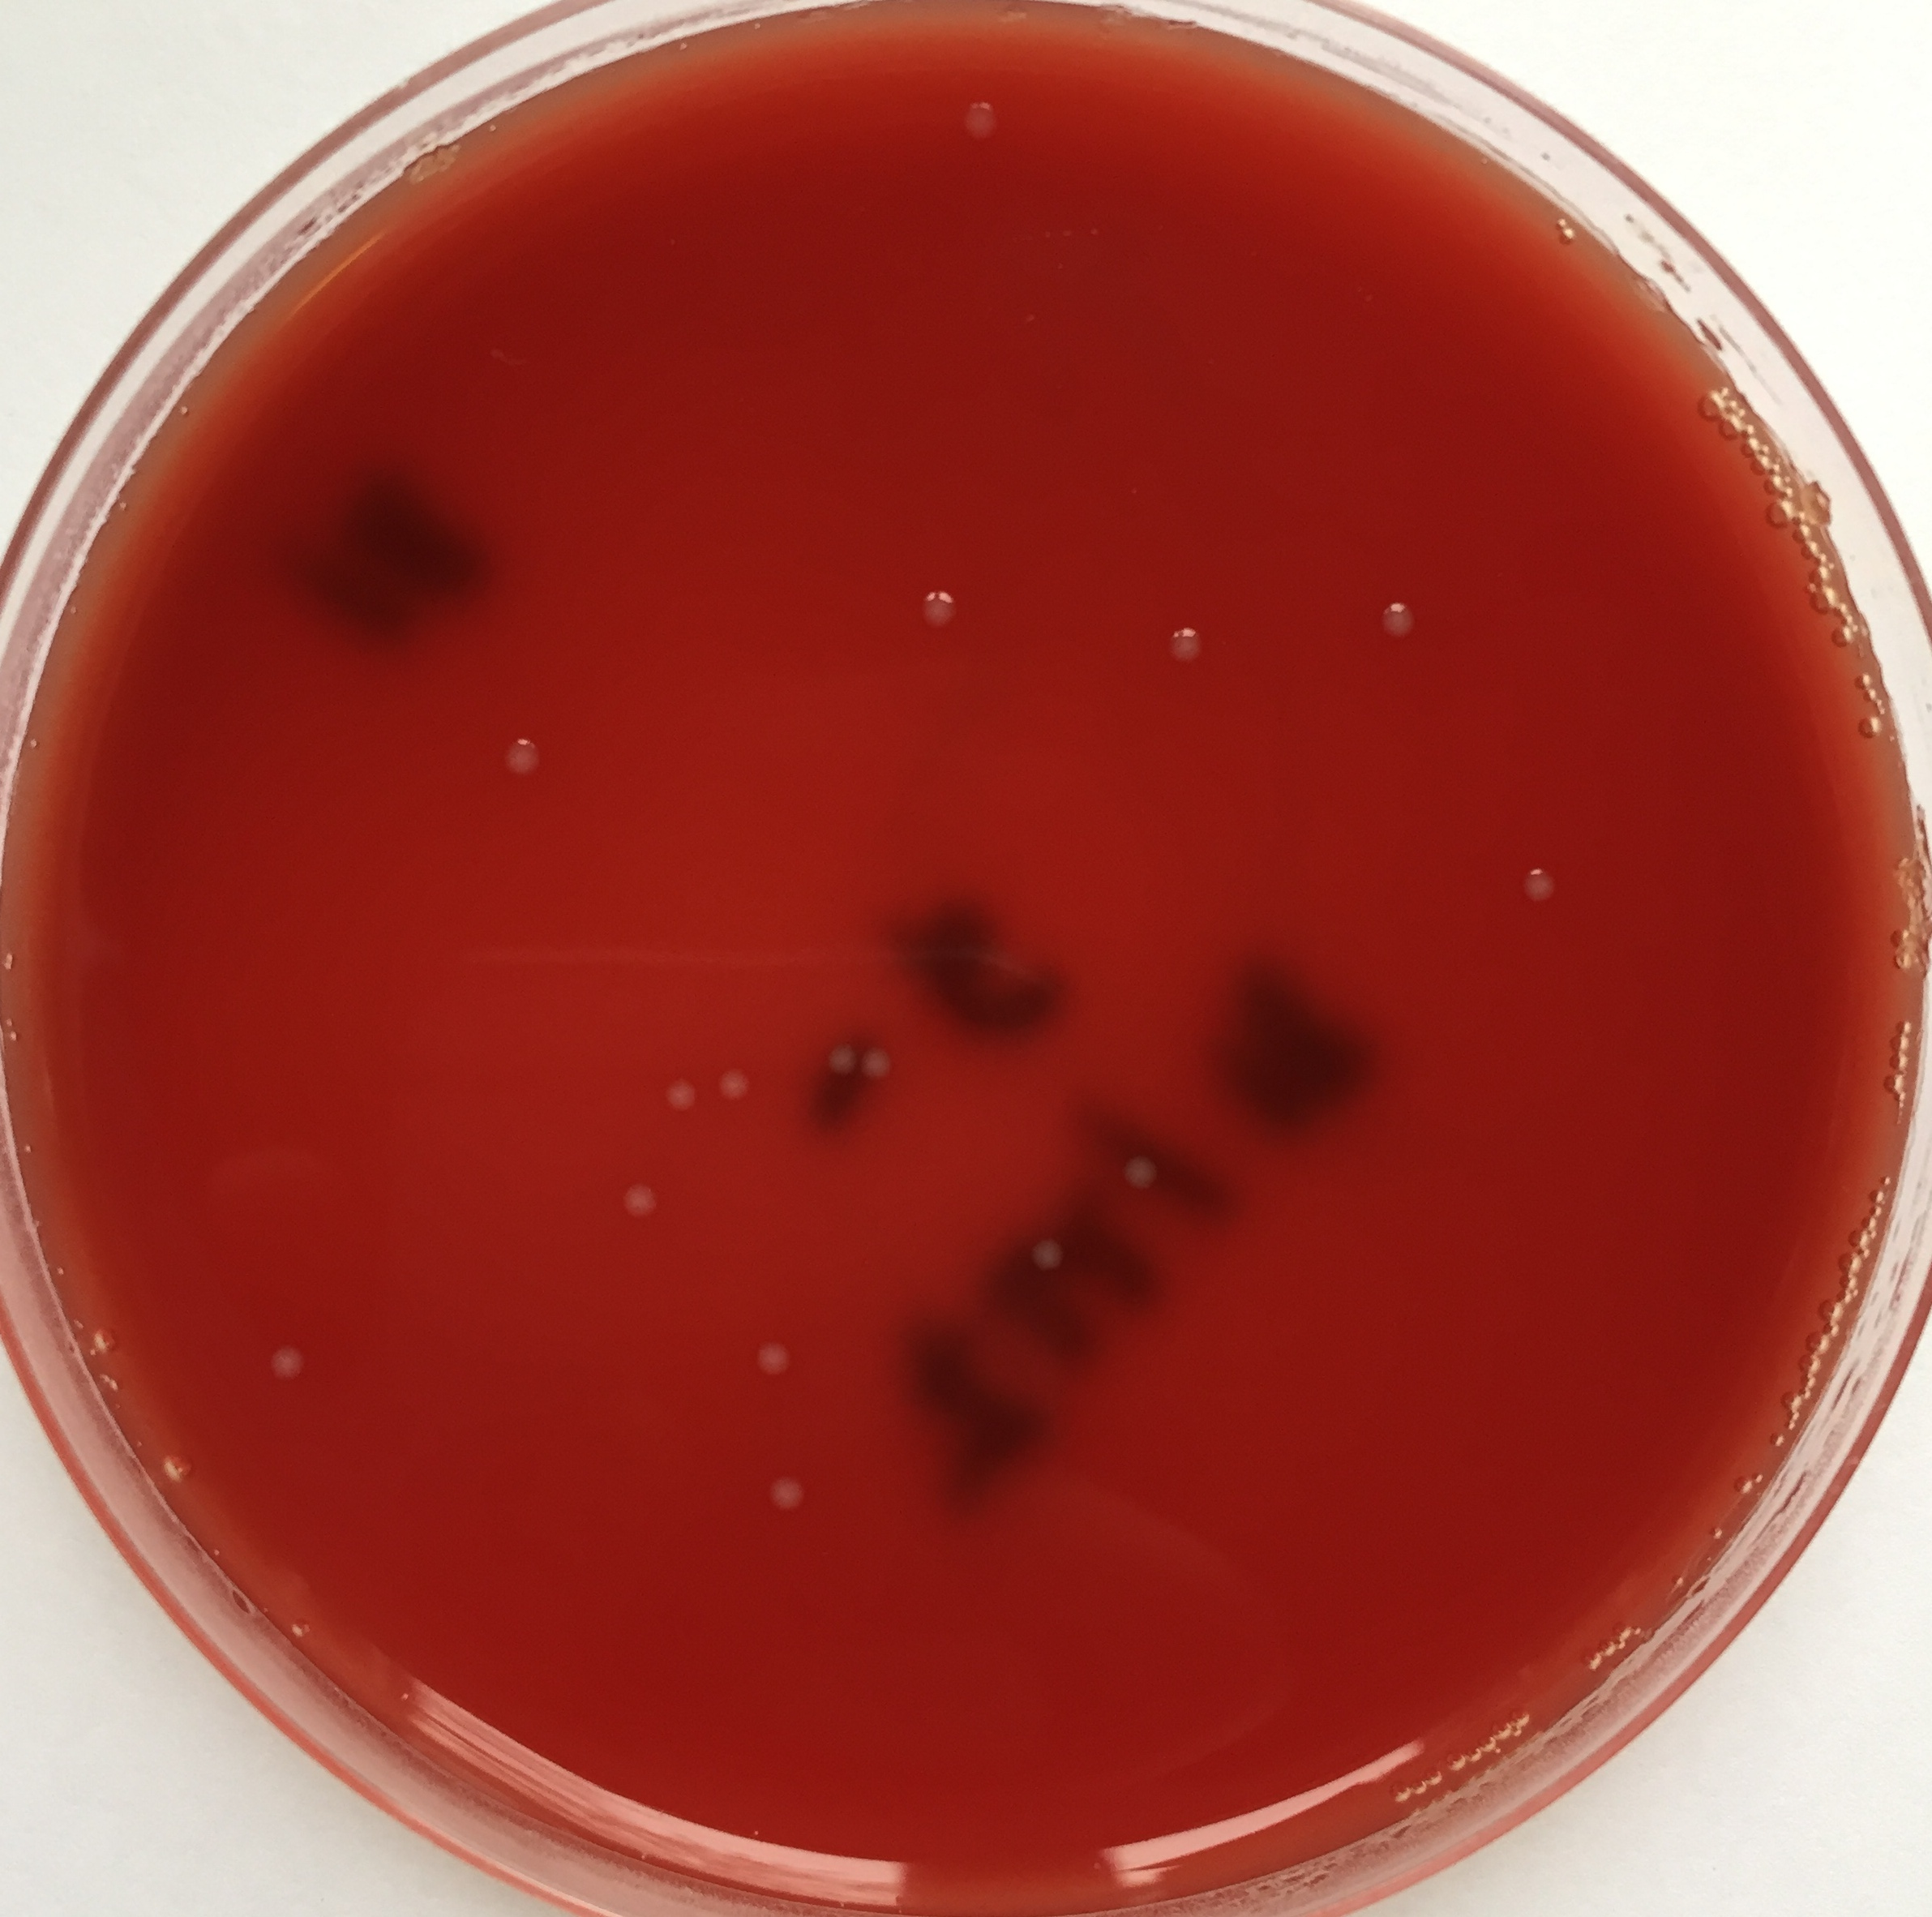sp14: (486, 716, 560, 802), (904, 564, 967, 644), (1506, 853, 1579, 918), (1153, 607, 1209, 681), (1370, 592, 1427, 657), (744, 1329, 805, 1385), (605, 1174, 662, 1236), (258, 1329, 305, 1394), (758, 1473, 814, 1527), (651, 1064, 700, 1125), (1114, 1146, 1163, 1206), (705, 1050, 755, 1109), (858, 1039, 907, 1099), (1018, 1224, 1067, 1278), (955, 97, 1002, 146), (818, 1030, 849, 1080)
